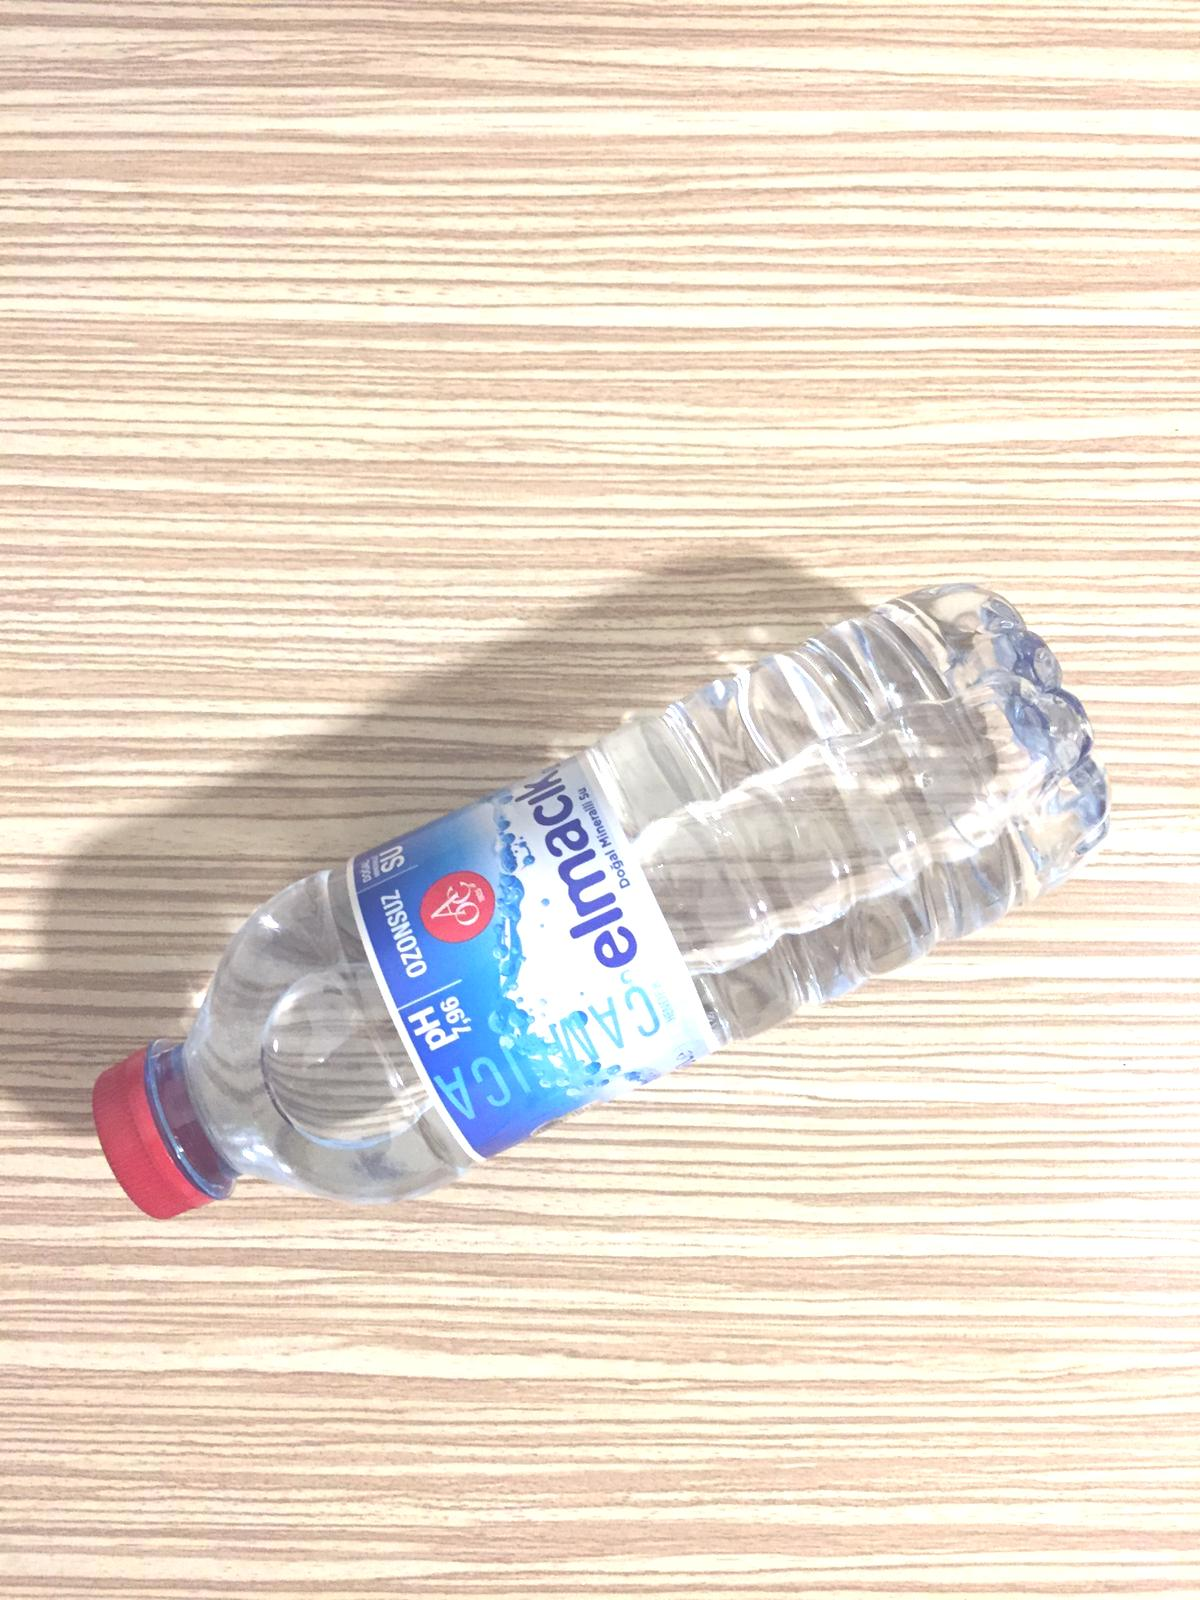bottle: (95, 578, 1117, 1220)
